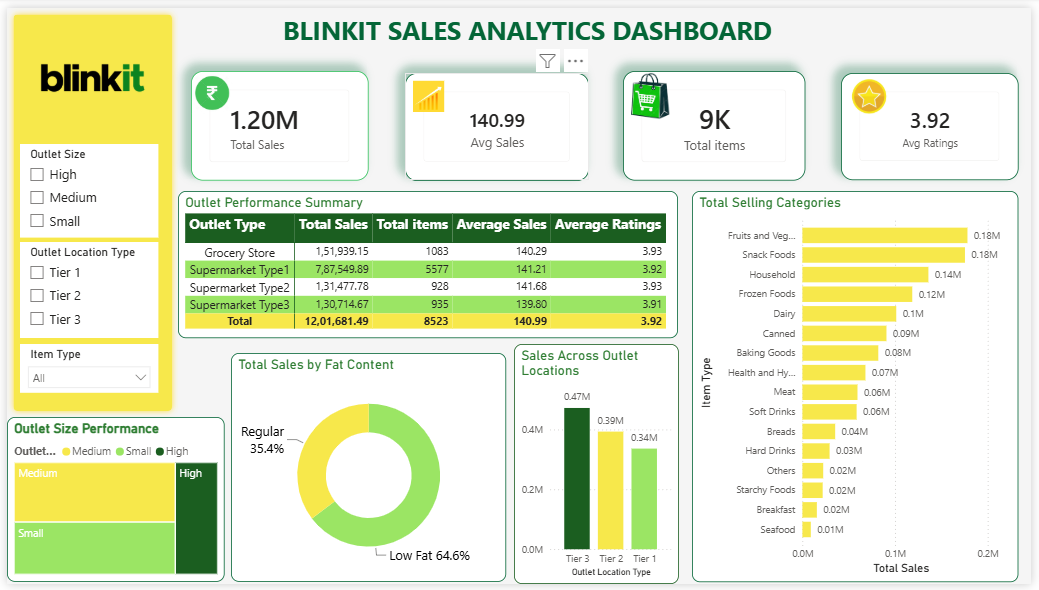

Layout of this report page (visuals, bound fields, positions):
{"tool":"powerbi","page":{"name":"Page 1","canvas":[1280,720],"ordinal":0},"visuals":[{"type":"cardVisual","fields":{"Data":["BlinkIT Grocery Data.Average Ratings"]},"box":[1042.7,81.9,221.5,133.6],"z":0},{"type":"cardVisual","fields":{"Data":["BlinkIT Grocery Data.Total items"]},"box":[770.6,78.3,227.6,137.3],"z":1000},{"type":"shape","box":[0,0,214.3,511.7],"z":2000},{"type":"image","box":[8.4,0,197.5,174.6],"z":3000},{"type":"slicer","fields":{"Values":["BlinkIT Grocery Data.Outlet Size"]},"box":[16.9,169.8,173.4,116.8],"z":4000},{"type":"slicer","fields":{"Values":["BlinkIT Grocery Data.Outlet Location Type"]},"box":[16.9,292.6,173.4,120.4],"z":5000},{"type":"slicer","fields":{"Values":["BlinkIT Grocery Data.Item Type"]},"box":[16.9,420.2,173.4,61.4],"z":6000},{"type":"donutChart","title":"Total Sales by Fat Content","fields":{"Category":["BlinkIT Grocery Data.Item Fat Content"],"Y":["BlinkIT Grocery Data.Total Sales"]},"box":[279.9,430.9,344.2,286.4],"z":7000},{"type":"clusteredBarChart","title":"Total Selling Categories","fields":{"Category":["BlinkIT Grocery Data.Item Type"],"Y":["BlinkIT Grocery Data.Total Sales"]},"box":[856.1,228.8,408.2,488.8],"z":8000},{"type":"cardVisual","fields":{"Data":["BlinkIT Grocery Data.Average Sales"]},"box":[497.3,80.7,230,134.8],"z":9000},{"type":"cardVisual","fields":{"Data":["BlinkIT Grocery Data.Total Sales"]},"box":[230,78.3,221.5,137.3],"z":10000},{"type":"treemap","title":"Outlet Size Performance","fields":{"Group":["BlinkIT Grocery Data.Outlet Size"],"Values":["BlinkIT Grocery Data.Total Sales"]},"box":[0,511.7,272.1,205.9],"z":11000},{"type":"clusteredColumnChart","title":"Sales Across Outlet Locations","fields":{"Category":["BlinkIT Grocery Data.Outlet Location Type"],"Y":["BlinkIT Grocery Data.Total Sales"]},"box":[633.3,420.4,206.3,299.6],"z":12000},{"type":"pivotTable","title":"Outlet Performance Summary","fields":{"Rows":["BlinkIT Grocery Data.Outlet Type"],"Values":["BlinkIT Grocery Data.Total Sales","BlinkIT Grocery Data.Total items","BlinkIT Grocery Data.Average Sales","BlinkIT Grocery Data.Average Ratings"]},"box":[214.3,228.8,624.9,184.2],"z":13000},{"type":"image","box":[230,78.3,53,54.2],"z":14000},{"type":"image","box":[1043.2,77.5,68.3,65.7],"z":15000},{"type":"image","box":[770.6,74.6,63.8,68.6],"z":16000},{"type":"image","box":[508.1,90.3,38.5,40.9],"z":17000},{"type":"textbox","box":[319.3,0,663.5,57.8],"z":18000}]}

Visuals, with their boxes in screenshot pixels (x1, y1, x2, y2), scaled from the page's 1280x720 canvas onto the 1039x590 screenshot:
cardVisual - BlinkIT Grocery Data.Average Ratings: [846,67,1026,177]
cardVisual - BlinkIT Grocery Data.Total items: [626,64,810,177]
shape: [0,0,174,419]
image: [7,0,167,143]
slicer - BlinkIT Grocery Data.Outlet Size: [14,139,154,235]
slicer - BlinkIT Grocery Data.Outlet Location Type: [14,240,154,338]
slicer - BlinkIT Grocery Data.Item Type: [14,344,154,395]
"Total Sales by Fat Content" donutChart: [227,353,507,588]
"Total Selling Categories" clusteredBarChart: [695,187,1026,588]
cardVisual - BlinkIT Grocery Data.Average Sales: [404,66,590,177]
cardVisual - BlinkIT Grocery Data.Total Sales: [187,64,366,177]
"Outlet Size Performance" treemap: [0,419,221,588]
"Sales Across Outlet Locations" clusteredColumnChart: [514,344,682,589]
"Outlet Performance Summary" pivotTable: [174,187,681,338]
image: [187,64,230,109]
image: [847,64,902,117]
image: [626,61,677,117]
image: [412,74,444,108]
textbox: [259,0,798,47]
